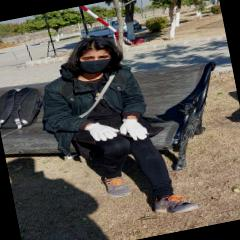gloved: (84, 118, 120, 144), (117, 114, 148, 144)
